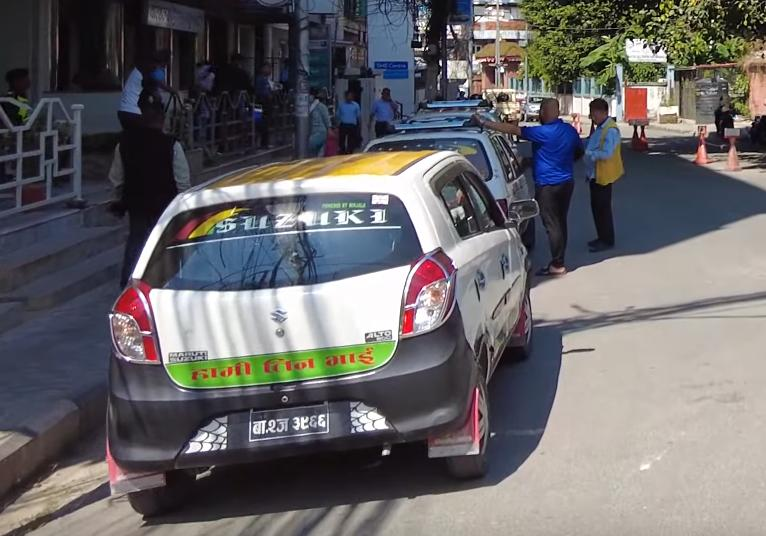taxi: (82, 143, 548, 531)
